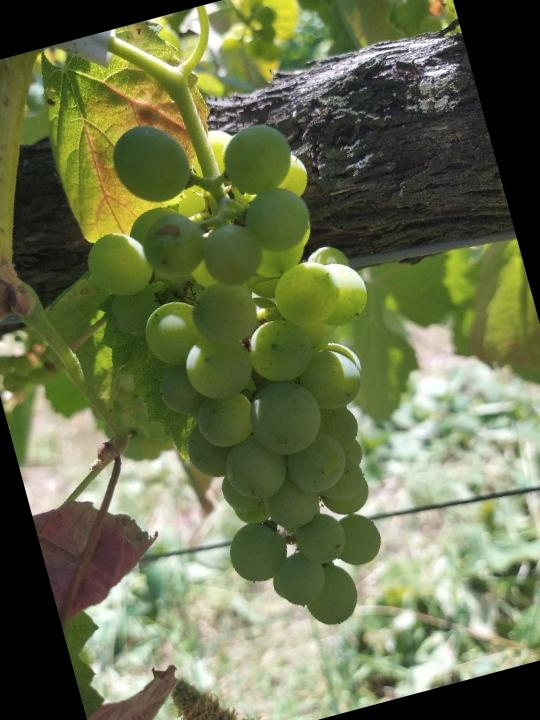grape: (55, 76, 451, 663)
